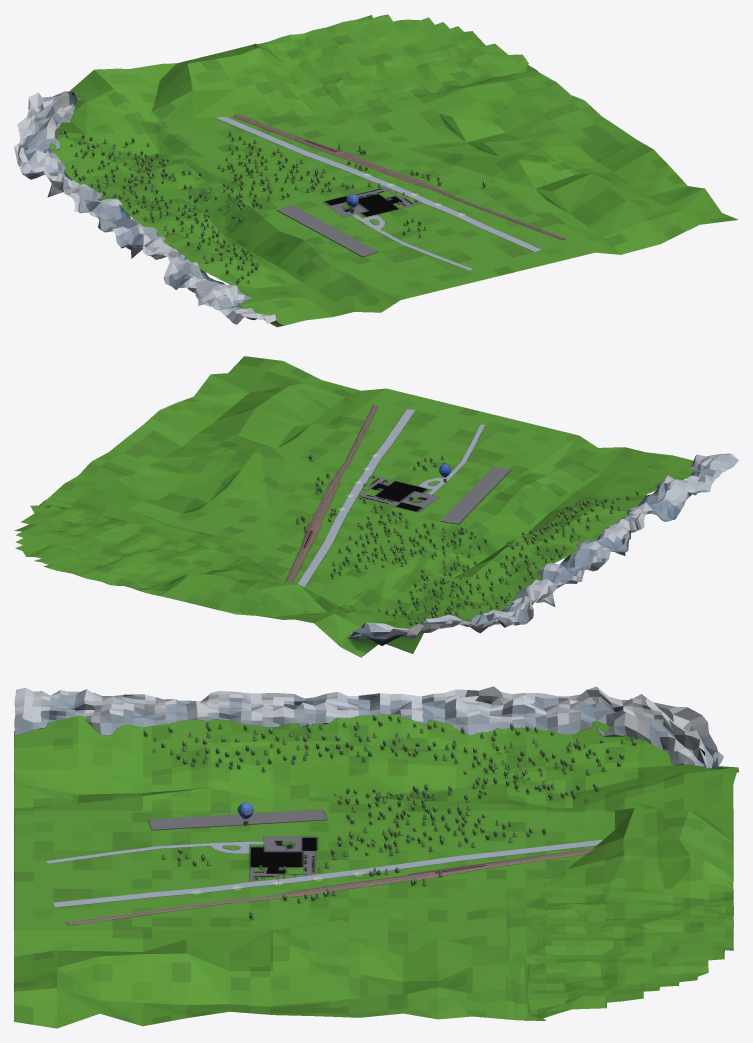
Rendered from landscape.glb.
3 views of the same model, one above another, from view 1: azimuth 30°, elevation 25°; view 2: azimuth 150°, elevation 25°; view 3: azimuth 270°, elevation 25° (orthographic). The views are drawn at different scales.
Parts seen in each view (by area): view 1: Plane.002, Plane.001, Baum1.543, Hauptstrasse.002, Bahndamm.001, Landebahn.002, main_road_new.001, Zufahrtsstrasse.002; view 2: Plane.002, Plane.001, Baum1.543, Hauptstrasse.002, Bahndamm.001, Landebahn.002, main_road_new.001, Zufahrtsstrasse.002; view 3: Plane.002, Plane.001, Baum1.543, Hauptstrasse.002, Bahndamm.001, Landebahn.002, main_road_new.001, Zufahrtsstrasse.002.
Boxes of the visible parts, x1,y1,x2,y2 form: Plane.002: (49, 14, 738, 327); Plane.001: (14, 91, 282, 324); Baum1.543: (60, 129, 380, 284); Hauptstrasse.002: (215, 117, 541, 252); Bahndamm.001: (233, 114, 565, 239); Landebahn.002: (277, 205, 377, 256); main_road_new.001: (323, 187, 422, 217); Zufahrtsstrasse.002: (352, 214, 472, 270); Plane.002: (14, 356, 693, 657); Plane.001: (348, 453, 738, 645); Baum1.543: (330, 490, 638, 624); Hauptstrasse.002: (298, 409, 415, 587); Bahndamm.001: (286, 405, 377, 582); Landebahn.002: (441, 466, 510, 524); main_road_new.001: (358, 475, 439, 511); Zufahrtsstrasse.002: (418, 424, 484, 494); Plane.002: (14, 714, 738, 1028); Plane.001: (14, 686, 723, 769); Baum1.543: (143, 714, 635, 872); Hauptstrasse.002: (52, 839, 602, 907); Bahndamm.001: (67, 848, 594, 925); Landebahn.002: (148, 809, 326, 830); main_road_new.001: (250, 836, 315, 881); Zufahrtsstrasse.002: (45, 841, 263, 863).
Bounding box in the file's own units: 752 × 68.73 × 740.
6 materials, 6 textured.
